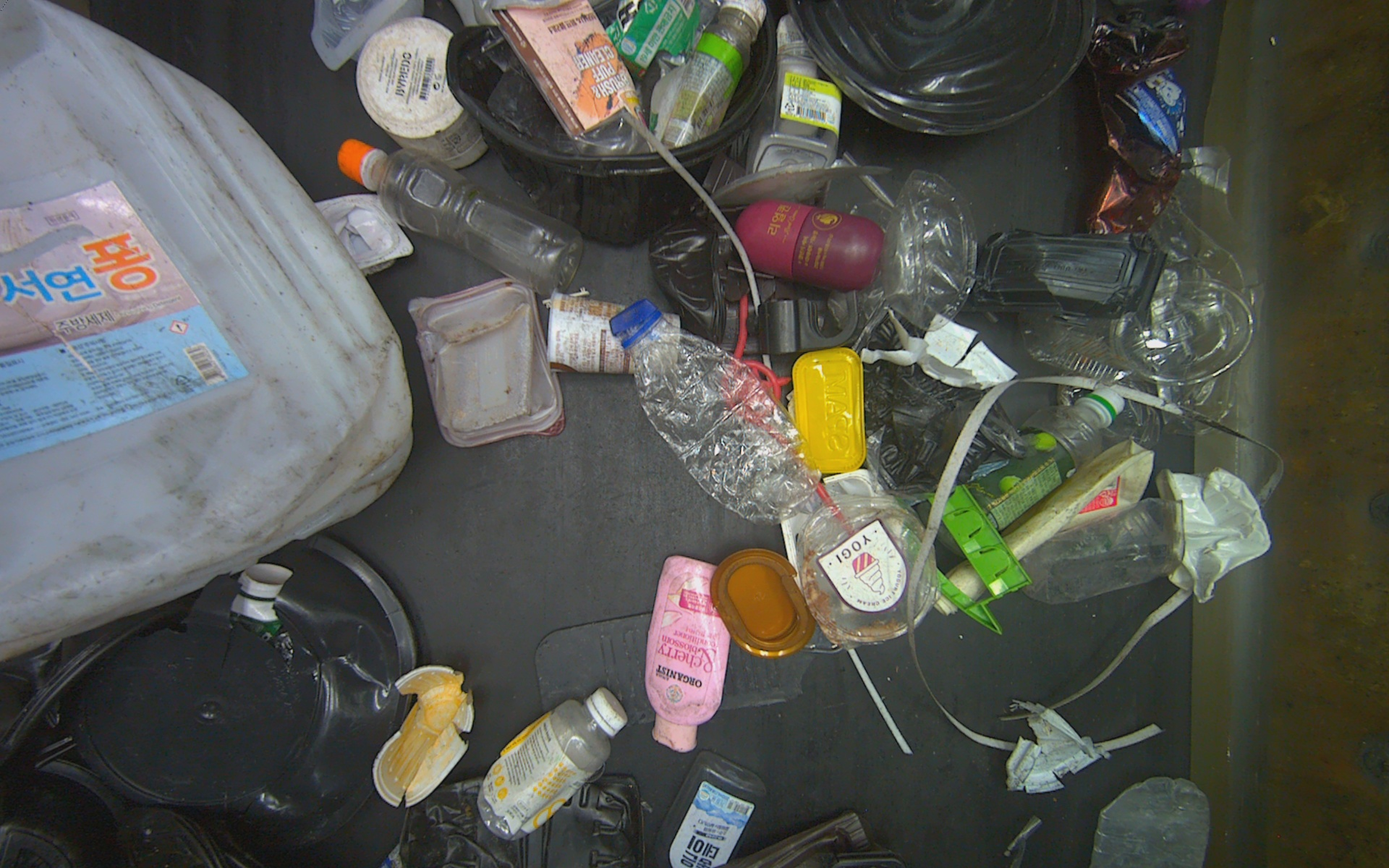PET: (609, 300, 822, 527), (336, 139, 586, 298), (1083, 0, 1186, 237), (961, 388, 1126, 534), (477, 687, 630, 842), (658, 0, 768, 149), (650, 749, 768, 867)
PET-C: (473, 0, 651, 156), (797, 493, 939, 645), (1017, 496, 1185, 603), (881, 169, 978, 335), (749, 11, 843, 172)
PP-B: (956, 228, 1168, 320)
PS-W: (1156, 466, 1271, 603), (372, 665, 474, 808), (313, 193, 414, 277)
